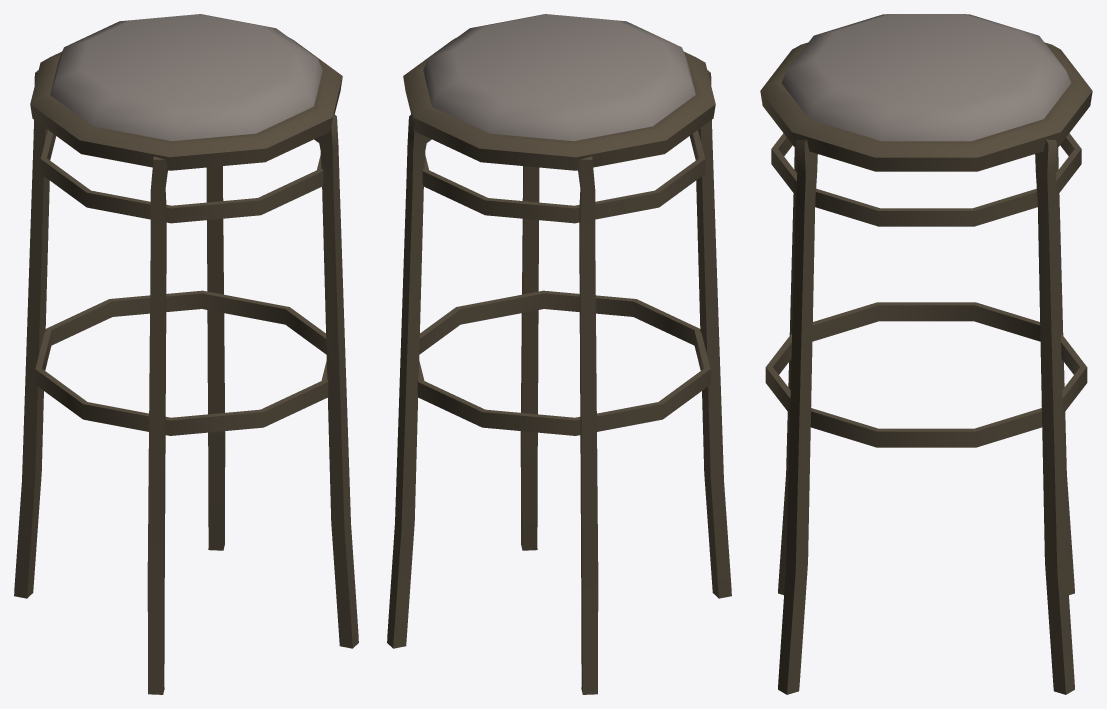
File: Stool.glb
3 renders of one model, left to right at view 1: azimuth 30°, elevation 25°; view 2: azimuth 150°, elevation 25°; view 3: azimuth 270°, elevation 25°, orthographic. The views are drawn at different scales.
Visible parts, largest first — view 1: Stool_Cylinder.028; view 2: Stool_Cylinder.028; view 3: Stool_Cylinder.028.
Part boxes in pixels (x1,y1,x2,y2): Stool_Cylinder.028: (14, 14, 358, 694); Stool_Cylinder.028: (387, 14, 731, 694); Stool_Cylinder.028: (760, 14, 1092, 694).
Bounding box in the file's own units: 0.6753 × 1.37 × 0.7101.
